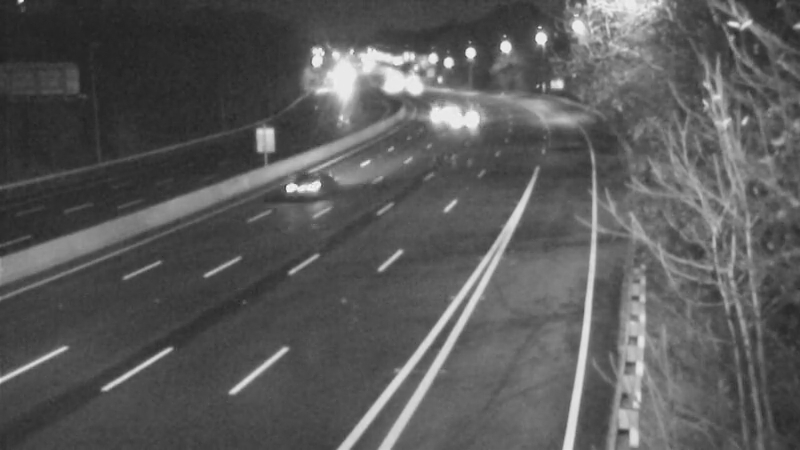vehicle: (261, 143, 341, 223), (410, 85, 460, 135), (441, 93, 491, 143)
